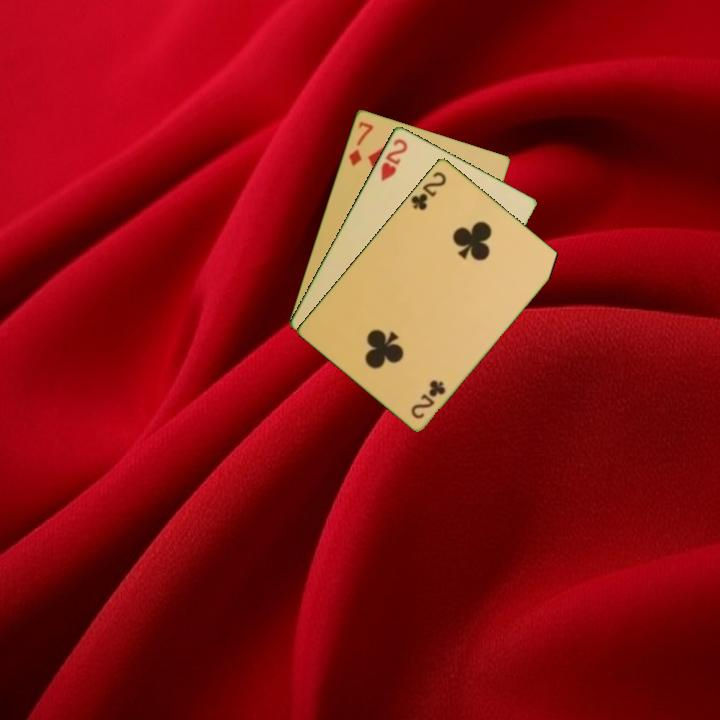2c: (407, 167, 449, 213), (407, 376, 449, 421)
2h: (377, 135, 410, 184)
7d: (345, 118, 376, 168)
